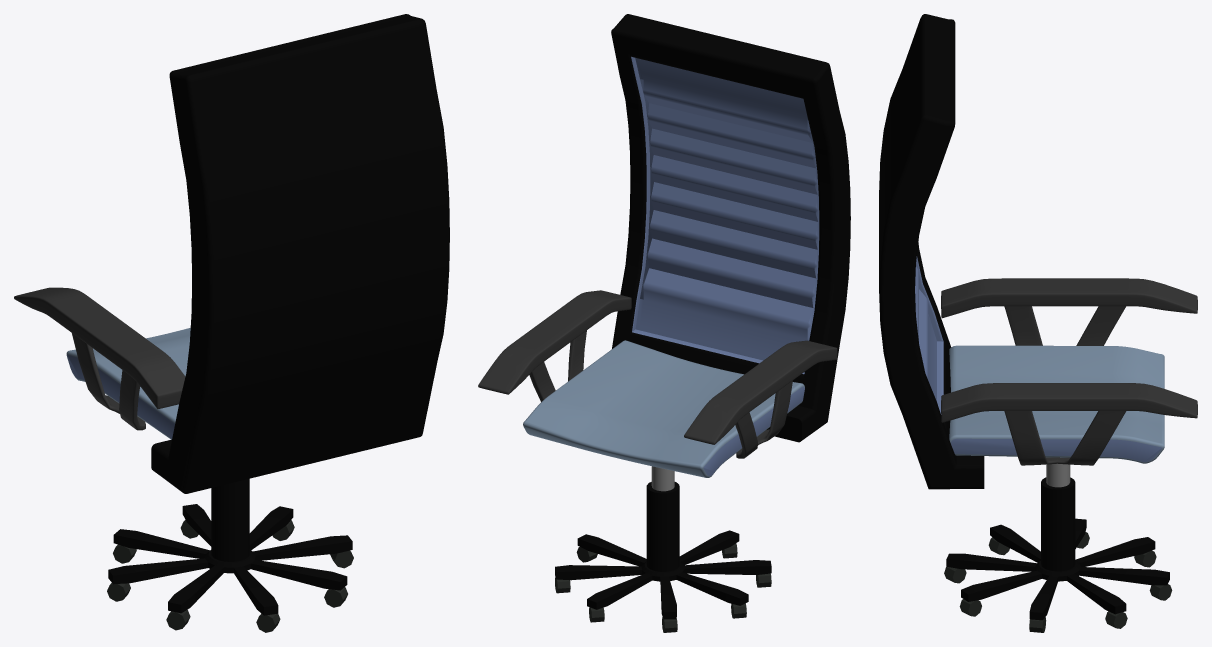
Rendered from Chairs.fbx.
3 renders of one model, left to right at view 1: azimuth 30°, elevation 25°; view 2: azimuth 150°, elevation 25°; view 3: azimuth 270°, elevation 25°, orthographic. The views are drawn at different scales.
Parts seen in each view (by area): view 1: Plane.001, Cylinder, Plane, Cube.001; view 2: Plane.001, Cube.001, Plane, Cylinder; view 3: Plane.001, Plane, Cube.001, Cylinder.
Part boxes in pixels (x1,y1,x2,y2): Plane.001: (151,14,449,493); Cylinder: (108,478,352,615); Plane: (14,287,185,430); Cube.001: (66,328,190,439); Plane.001: (611,14,850,442); Cube.001: (523,340,804,477); Plane: (478,290,837,458); Cylinder: (555,466,771,619); Plane.001: (879,14,984,489); Plane: (941,278,1197,465); Cube.001: (949,345,1164,463); Cylinder: (946,463,1169,620).
Size of the model in its own units: 63.23 by 129 by 70.66.
